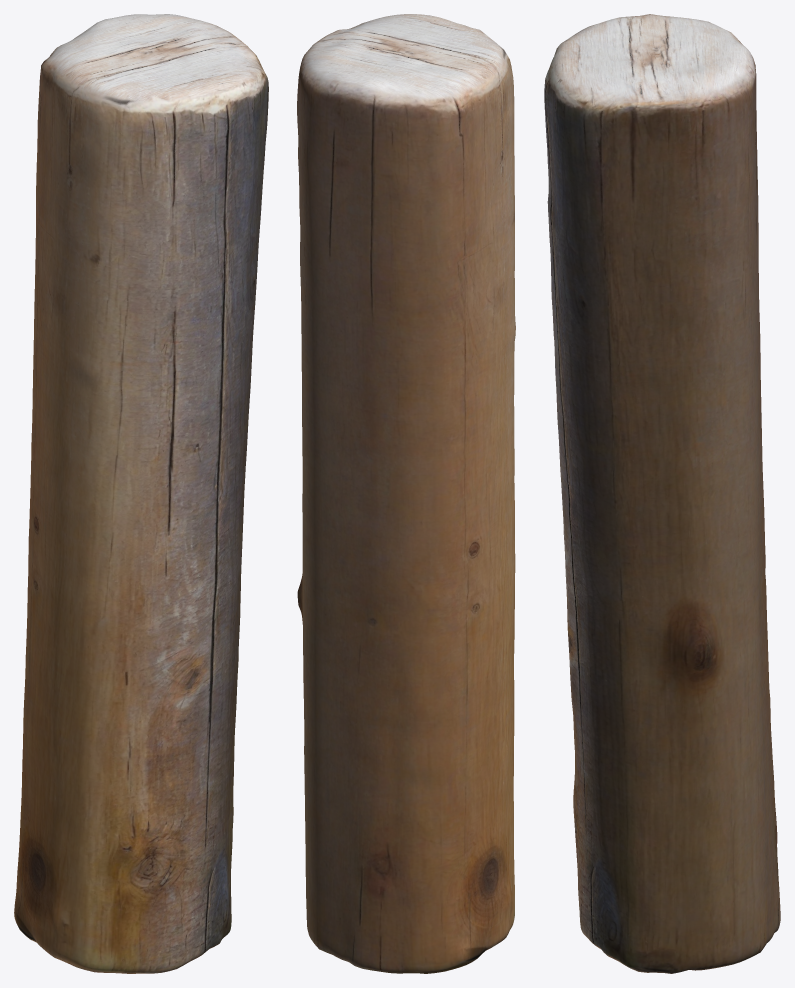
Rendered from post01.fbx.
The picture shows the model from 3 angles, left to right: view 1: azimuth 30°, elevation 25°; view 2: azimuth 150°, elevation 25°; view 3: azimuth 270°, elevation 25°; orthographic projection.
Visible parts, largest first — view 1: Mesh1_Mesh1.001; view 2: Mesh1_Mesh1.001; view 3: Mesh1_Mesh1.001.
Boxes of the visible parts, box(x1,y1,x2,y2) form: Mesh1_Mesh1.001: box(14, 14, 268, 973); Mesh1_Mesh1.001: box(297, 14, 515, 973); Mesh1_Mesh1.001: box(544, 14, 780, 973).
Bounding box in the file's own units: 45.28 × 200 × 47.99.
1 material, 1 textured.
